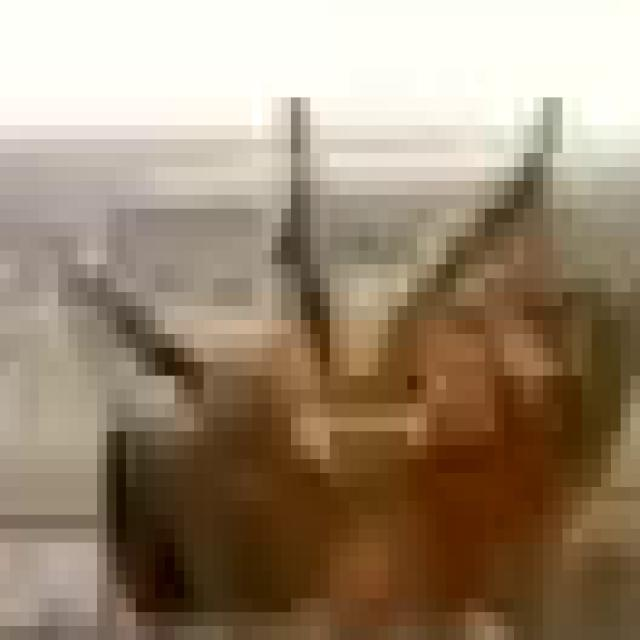honeybee: (70, 138, 620, 618)
